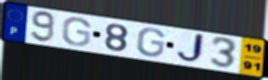3: (208, 35, 238, 70)
8: (104, 23, 130, 52)
9: (28, 10, 57, 44)
G: (60, 17, 93, 48), (136, 28, 167, 59)
J: (174, 32, 207, 65)
